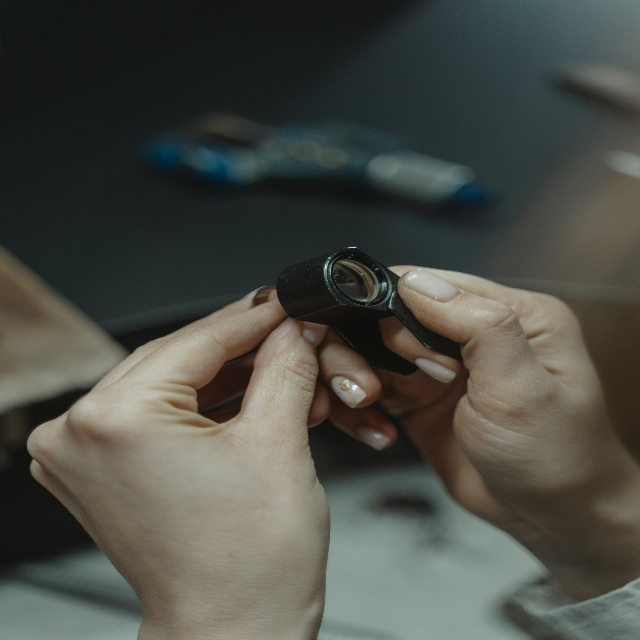Sin_guantes: (25, 287, 332, 640), (316, 264, 613, 528)
